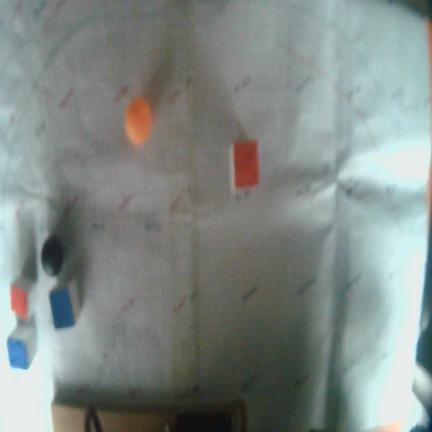circle_blue: (41, 235, 64, 276)
circle_orange: (125, 97, 152, 144)
rectangle_blue: (6, 340, 29, 368)
rectangle_orange: (11, 286, 29, 322)
square_blue: (49, 286, 76, 332)
square_orange: (233, 140, 259, 189)
